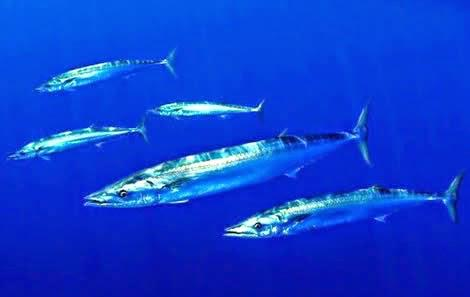Scombridae -Tunas-: (78, 94, 376, 209), (213, 166, 465, 240), (4, 113, 150, 166), (33, 42, 185, 91), (142, 93, 270, 125)
